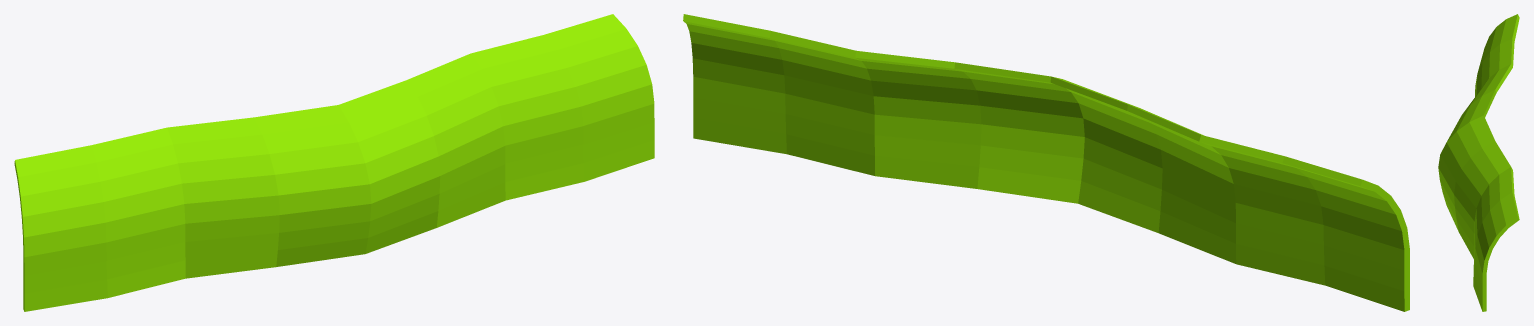
File: Wall_01_Bend_04.fbx
The picture shows the model from 3 angles, left to right: view 1: azimuth 30°, elevation 25°; view 2: azimuth 150°, elevation 25°; view 3: azimuth 270°, elevation 25°; orthographic projection. The views are drawn at different scales.
Visible parts, largest first — view 1: Wall_01_Bend_04; view 2: Wall_01_Bend_04; view 3: Wall_01_Bend_04.
Boxes of the visible parts, x1,y1,x2,y2 form: Wall_01_Bend_04: [14, 14, 654, 311]; Wall_01_Bend_04: [683, 14, 1409, 311]; Wall_01_Bend_04: [1438, 14, 1519, 311].
Bounding box in the file's own units: 2595 × 510 × 418.
